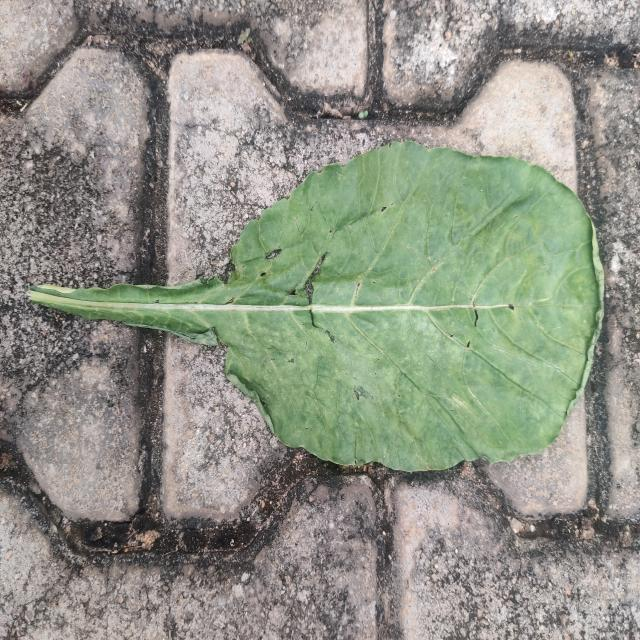raddish: (30, 142, 604, 472)
